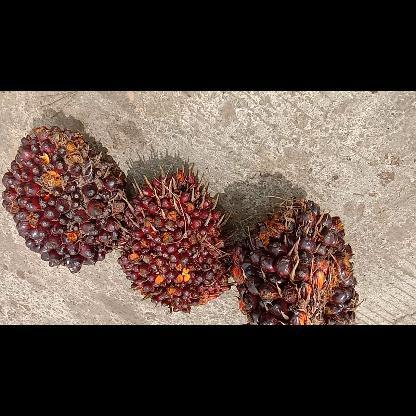Kurang masak: (1, 125, 123, 275), (119, 167, 232, 312)
TBS masak: (233, 198, 358, 324)
